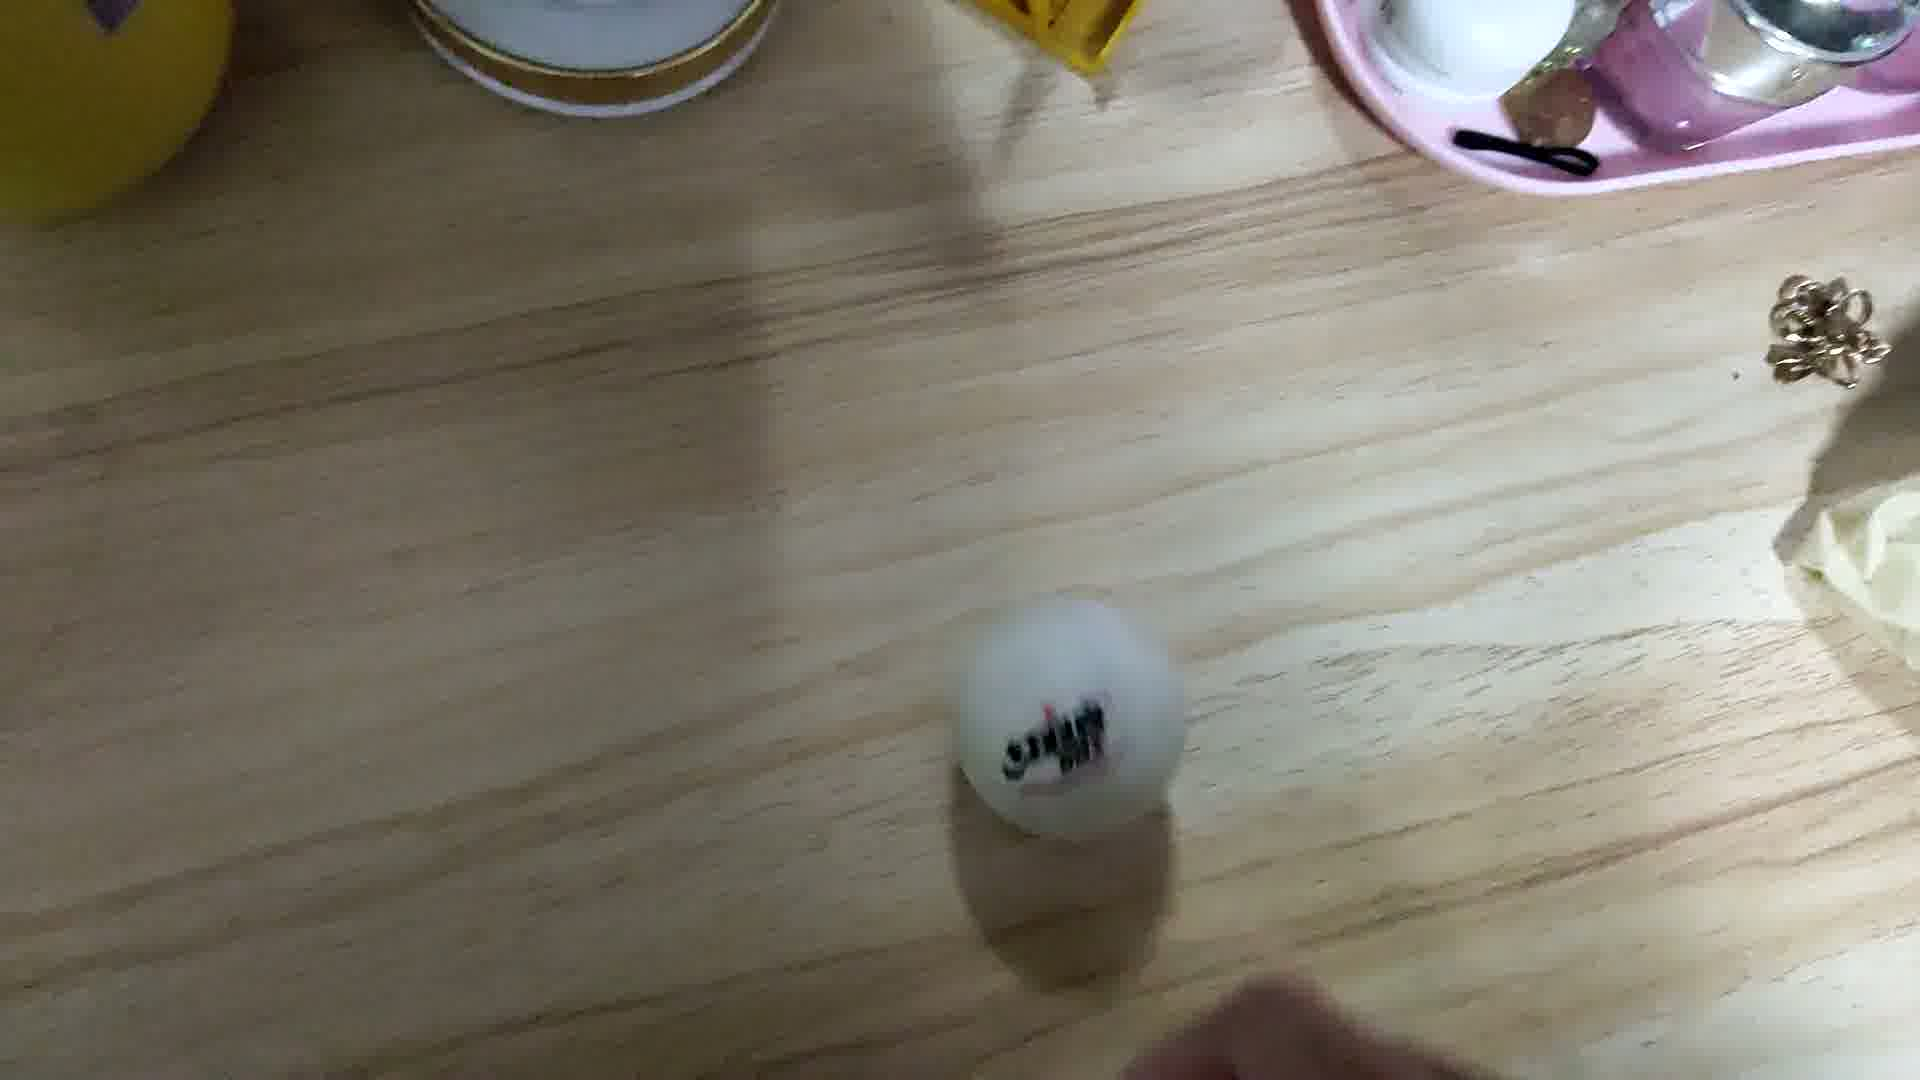Ball: (959, 600, 1193, 835)
